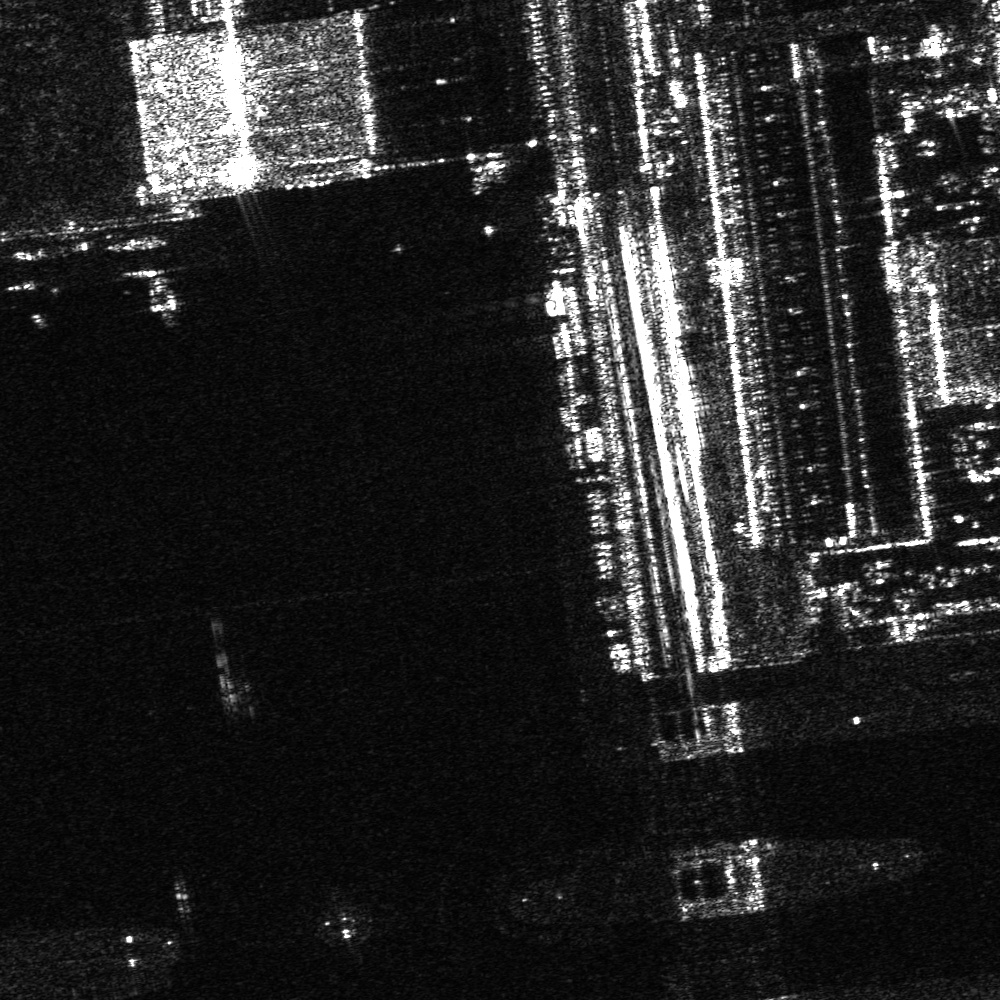A330: (319, 899, 368, 944)
